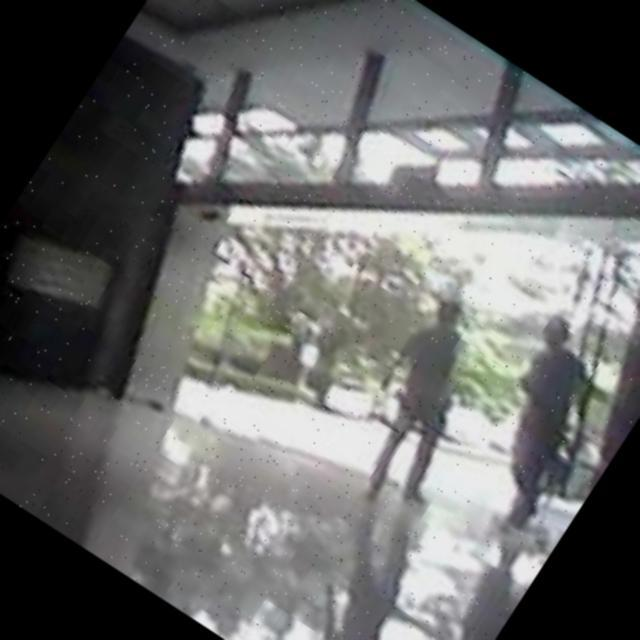person: (437, 309, 640, 552), (326, 288, 530, 520)
